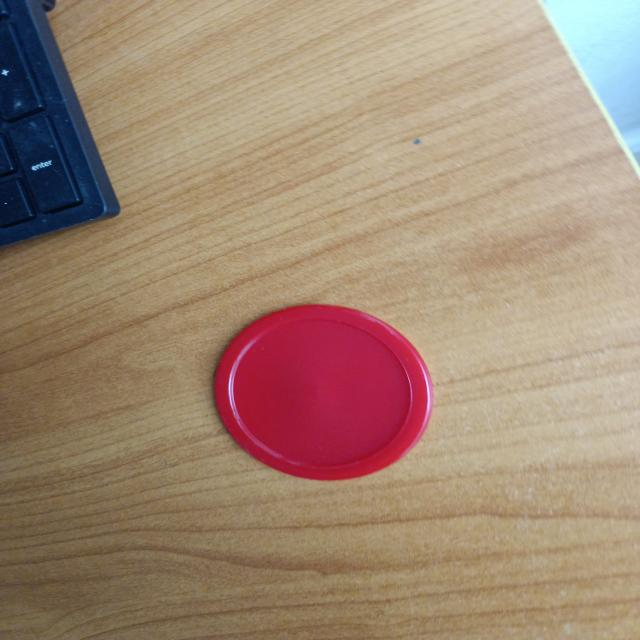chip: (208, 302, 437, 483)
